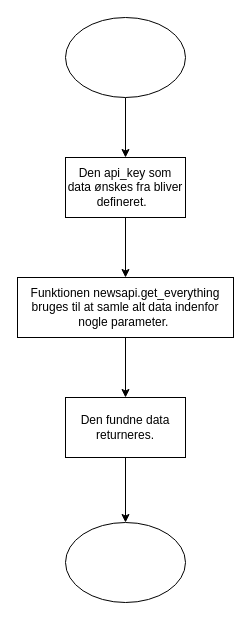
Some shapes in this 251 by 620 pixel diagram are drawn without their labels. The shapes that lost their labels are listed below. From the top down, each one's box as (x1, y1, x2, y2) in pixels, then its label:
(64, 16, 186, 98): Start
(64, 522, 186, 602): Slut
